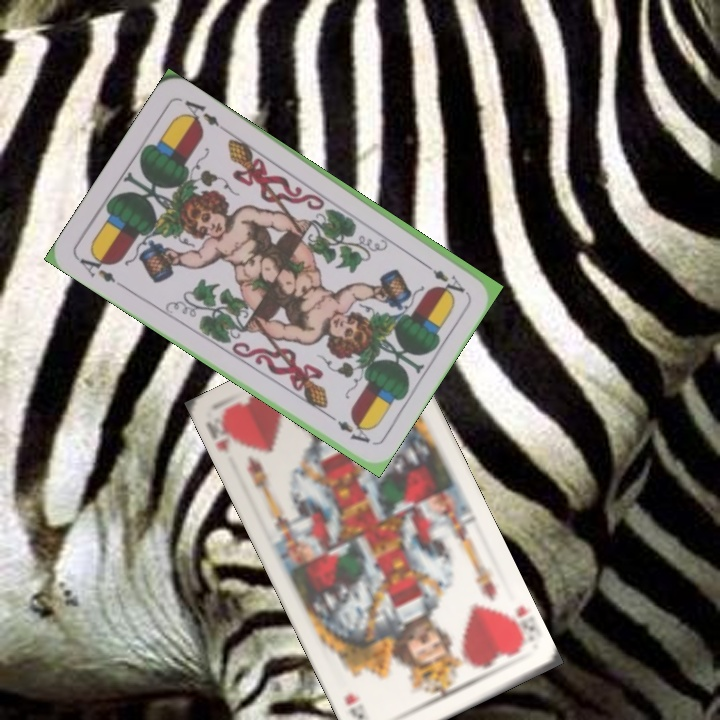EA: (73, 248, 127, 290), (417, 257, 467, 296)
HK: (501, 602, 530, 650), (202, 418, 232, 456)
